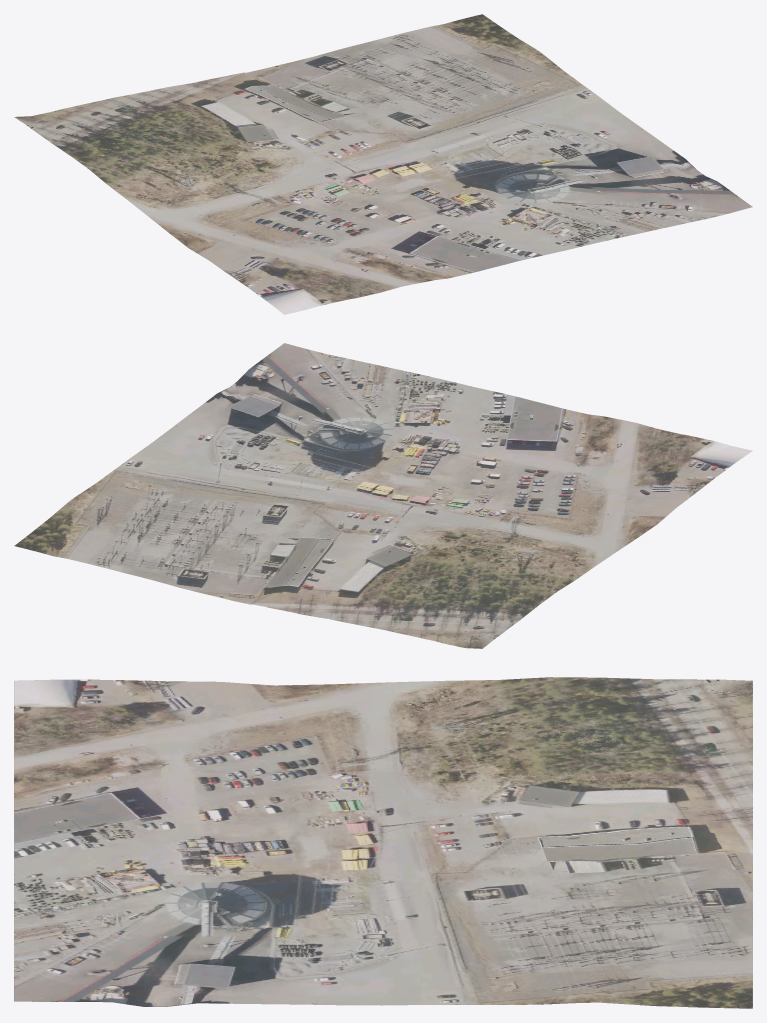
The model's file is CM_Terrain_24492506_6816517.fbx.
The picture shows the model from 3 angles, top to bottom: view 1: azimuth 30°, elevation 25°; view 2: azimuth 150°, elevation 25°; view 3: azimuth 270°, elevation 25°; orthographic projection. The views are drawn at different scales.
Parts seen in each view (by area): view 1: CM_Terrain_24492506_6816517_LOD0; view 2: CM_Terrain_24492506_6816517_LOD0; view 3: CM_Terrain_24492506_6816517_LOD0.
Part boxes in pixels (x1,y1,x2,y2): CM_Terrain_24492506_6816517_LOD0: (14,14,752,314); CM_Terrain_24492506_6816517_LOD0: (14,343,752,648); CM_Terrain_24492506_6816517_LOD0: (14,677,752,1008).
Size of what is drawn, in the model's own units: 205 by 6.5 by 205.
